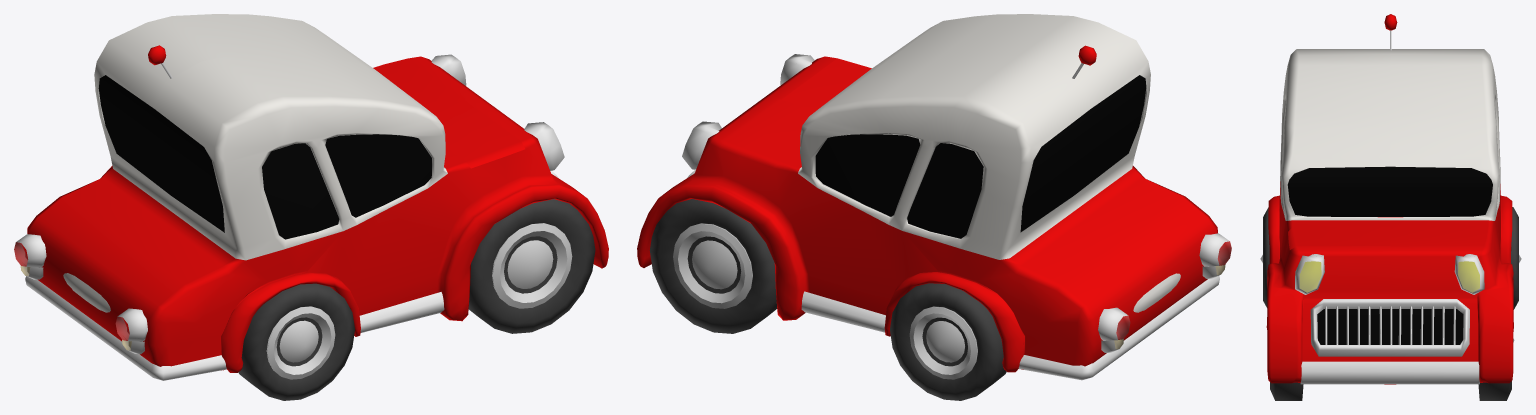
File: Car1_Pushed.fbx
3 views of the same model, side by side, from view 1: azimuth 30°, elevation 25°; view 2: azimuth 150°, elevation 25°; view 3: azimuth 270°, elevation 25° (orthographic). The views are drawn at different scales.
Visible parts, largest first — view 1: Car1Body1, Car1Windows1, polySurface59, polySurface60, car1trim, car1Lights, polySurface56; view 2: Car1Body1, Car1Windows1, polySurface61, polySurface58, car1trim, car1Lights, polySurface56; view 3: Car1Body1, Car1Windows1, Car1Grill, car1trim, car1Lights, polySurface58, polySurface61, polySurface59, polySurface60.
Boxes of the visible parts, left/top/right/bottom form: Car1Body1: left=27, top=14, right=608, bottom=372; Car1Windows1: left=98, top=75, right=431, bottom=239; polySurface59: left=468, top=199, right=595, bottom=333; polySurface60: left=238, top=283, right=354, bottom=400; car1trim: left=25, top=276, right=444, bottom=380; car1Lights: left=14, top=54, right=564, bottom=354; polySurface56: left=63, top=273, right=110, bottom=312; Car1Body1: left=637, top=14, right=1217, bottom=372; Car1Windows1: left=815, top=75, right=1146, bottom=238; polySurface61: left=649, top=199, right=777, bottom=333; polySurface58: left=890, top=283, right=1006, bottom=400; car1trim: left=801, top=276, right=1219, bottom=380; car1Lights: left=682, top=54, right=1231, bottom=352; polySurface56: left=1133, top=273, right=1180, bottom=312; Car1Body1: left=1266, top=49, right=1513, bottom=384; Car1Windows1: left=1287, top=166, right=1492, bottom=216; Car1Grill: left=1310, top=299, right=1469, bottom=356; car1trim: left=1300, top=361, right=1479, bottom=384; car1Lights: left=1295, top=254, right=1484, bottom=294; polySurface58: left=1511, top=207, right=1521, bottom=309; polySurface61: left=1478, top=338, right=1514, bottom=400; polySurface59: left=1270, top=382, right=1303, bottom=400; polySurface60: left=1260, top=207, right=1269, bottom=307.
Bounding box in the file's own units: 8.25 × 5.36 × 4.82.
